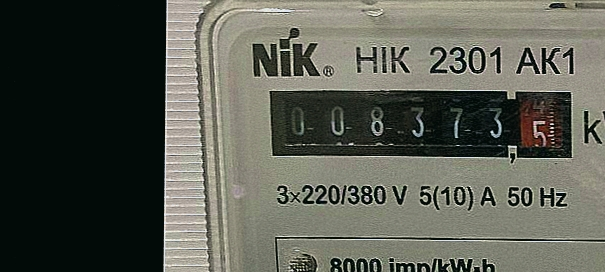0: (289, 103, 309, 140), (329, 103, 348, 139)
3: (486, 105, 508, 142), (408, 104, 429, 141)
4: (531, 97, 549, 117)
5: (532, 118, 551, 148)
7: (448, 103, 466, 142)
8: (368, 103, 389, 139)
screen: (264, 82, 582, 173)
